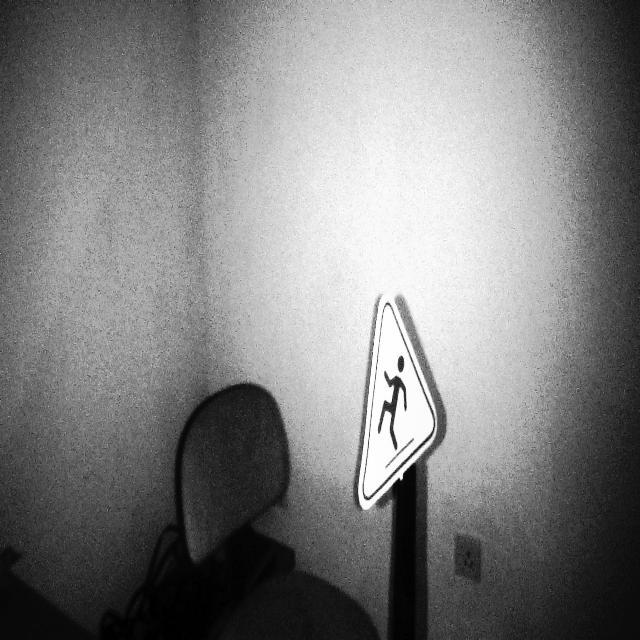Sign: (356, 290, 440, 514)
